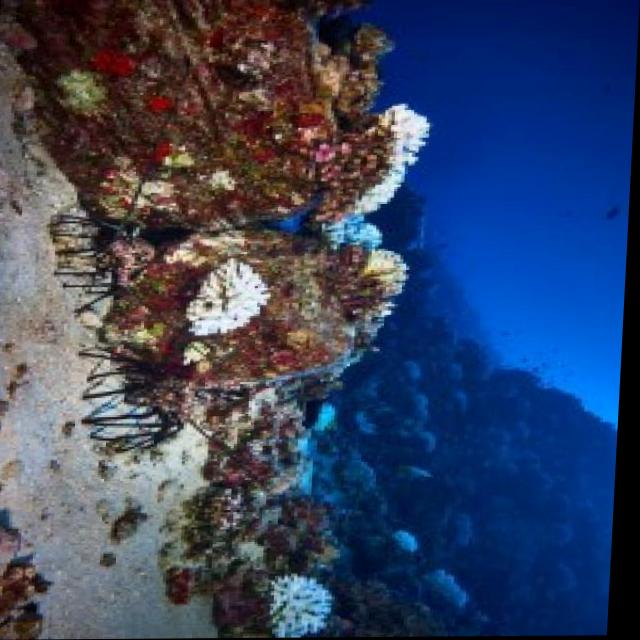Bleached Coral: (325, 116, 447, 318), (180, 236, 277, 361), (257, 568, 360, 638), (383, 514, 456, 573)
